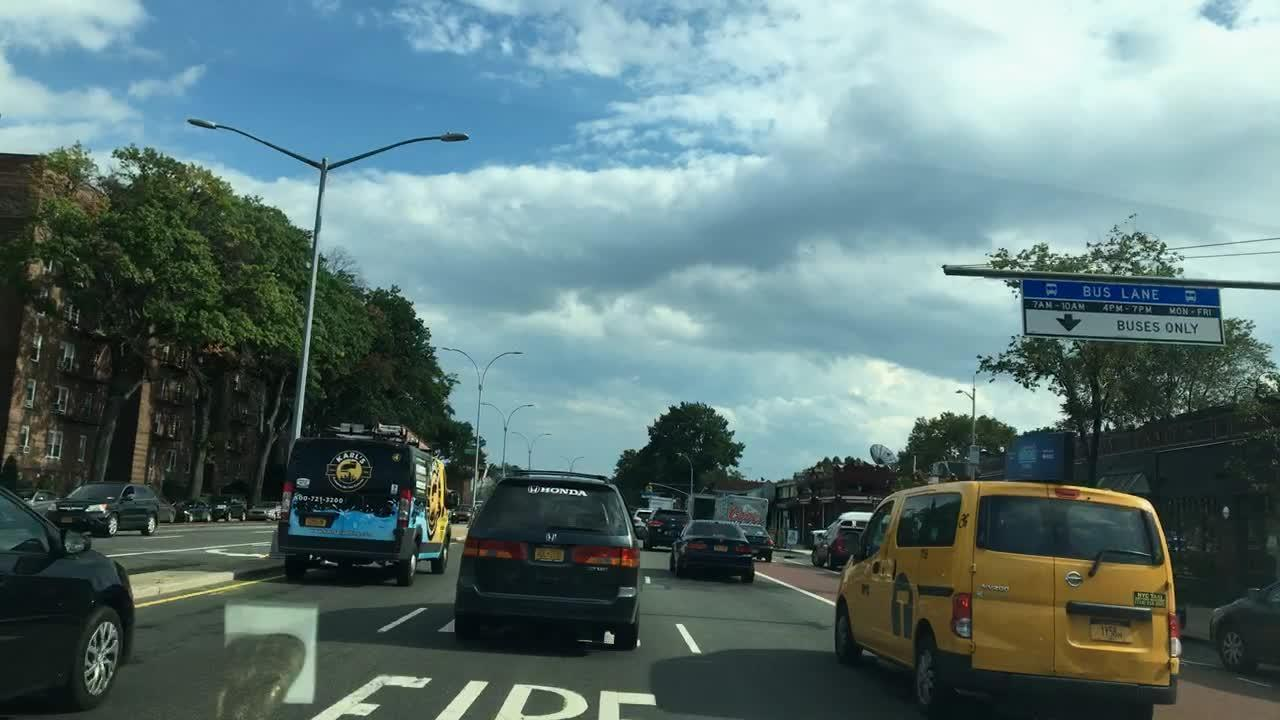Honda: (539, 525, 566, 549)
Nissan: (1064, 569, 1085, 591)
